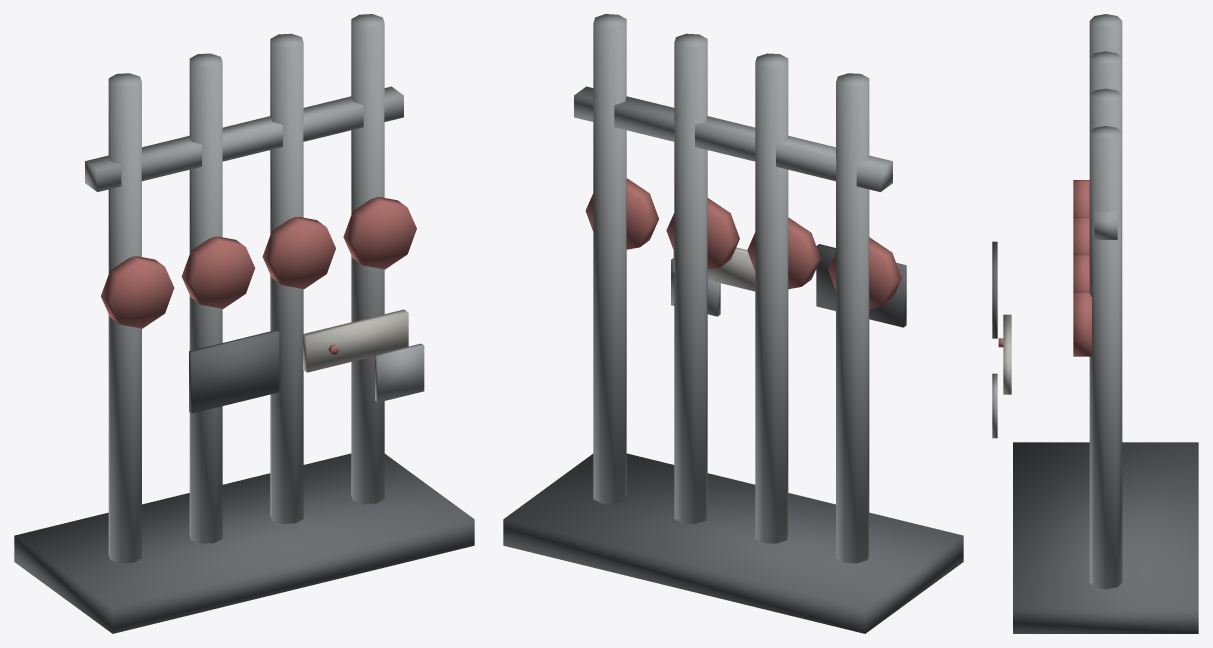
The model's file is sprinkler_riser__weathered.glb.
3 renders of one model, left to right at view 1: azimuth 30°, elevation 25°; view 2: azimuth 150°, elevation 25°; view 3: azimuth 270°, elevation 25°, orthographic. The views are drawn at different scales.
Parts seen in each view (by area): view 1: world; view 2: world; view 3: world.
Boxes of the visible parts, left/top/right/bottom form: world: left=14, top=14, right=474, bottom=633; world: left=503, top=14, right=963, bottom=633; world: left=992, top=14, right=1198, bottom=633.
Size of the model in its own units: 0.85 by 1.13 by 0.445.
